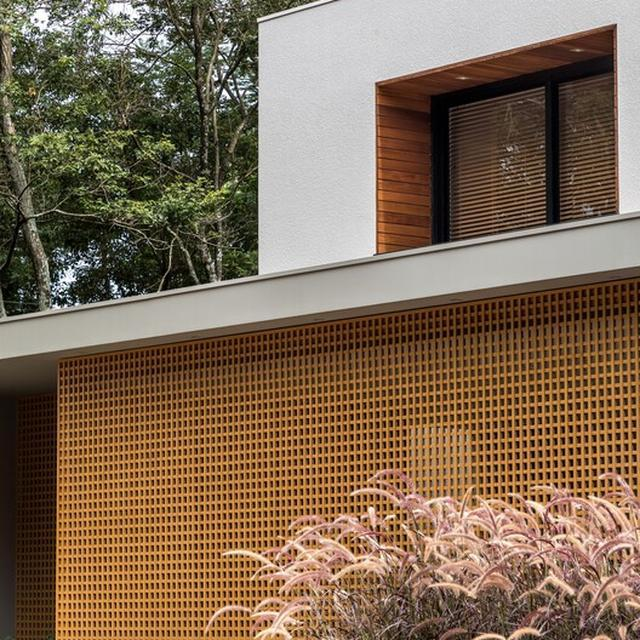building: (10, 243, 640, 640), (255, 14, 640, 233)
